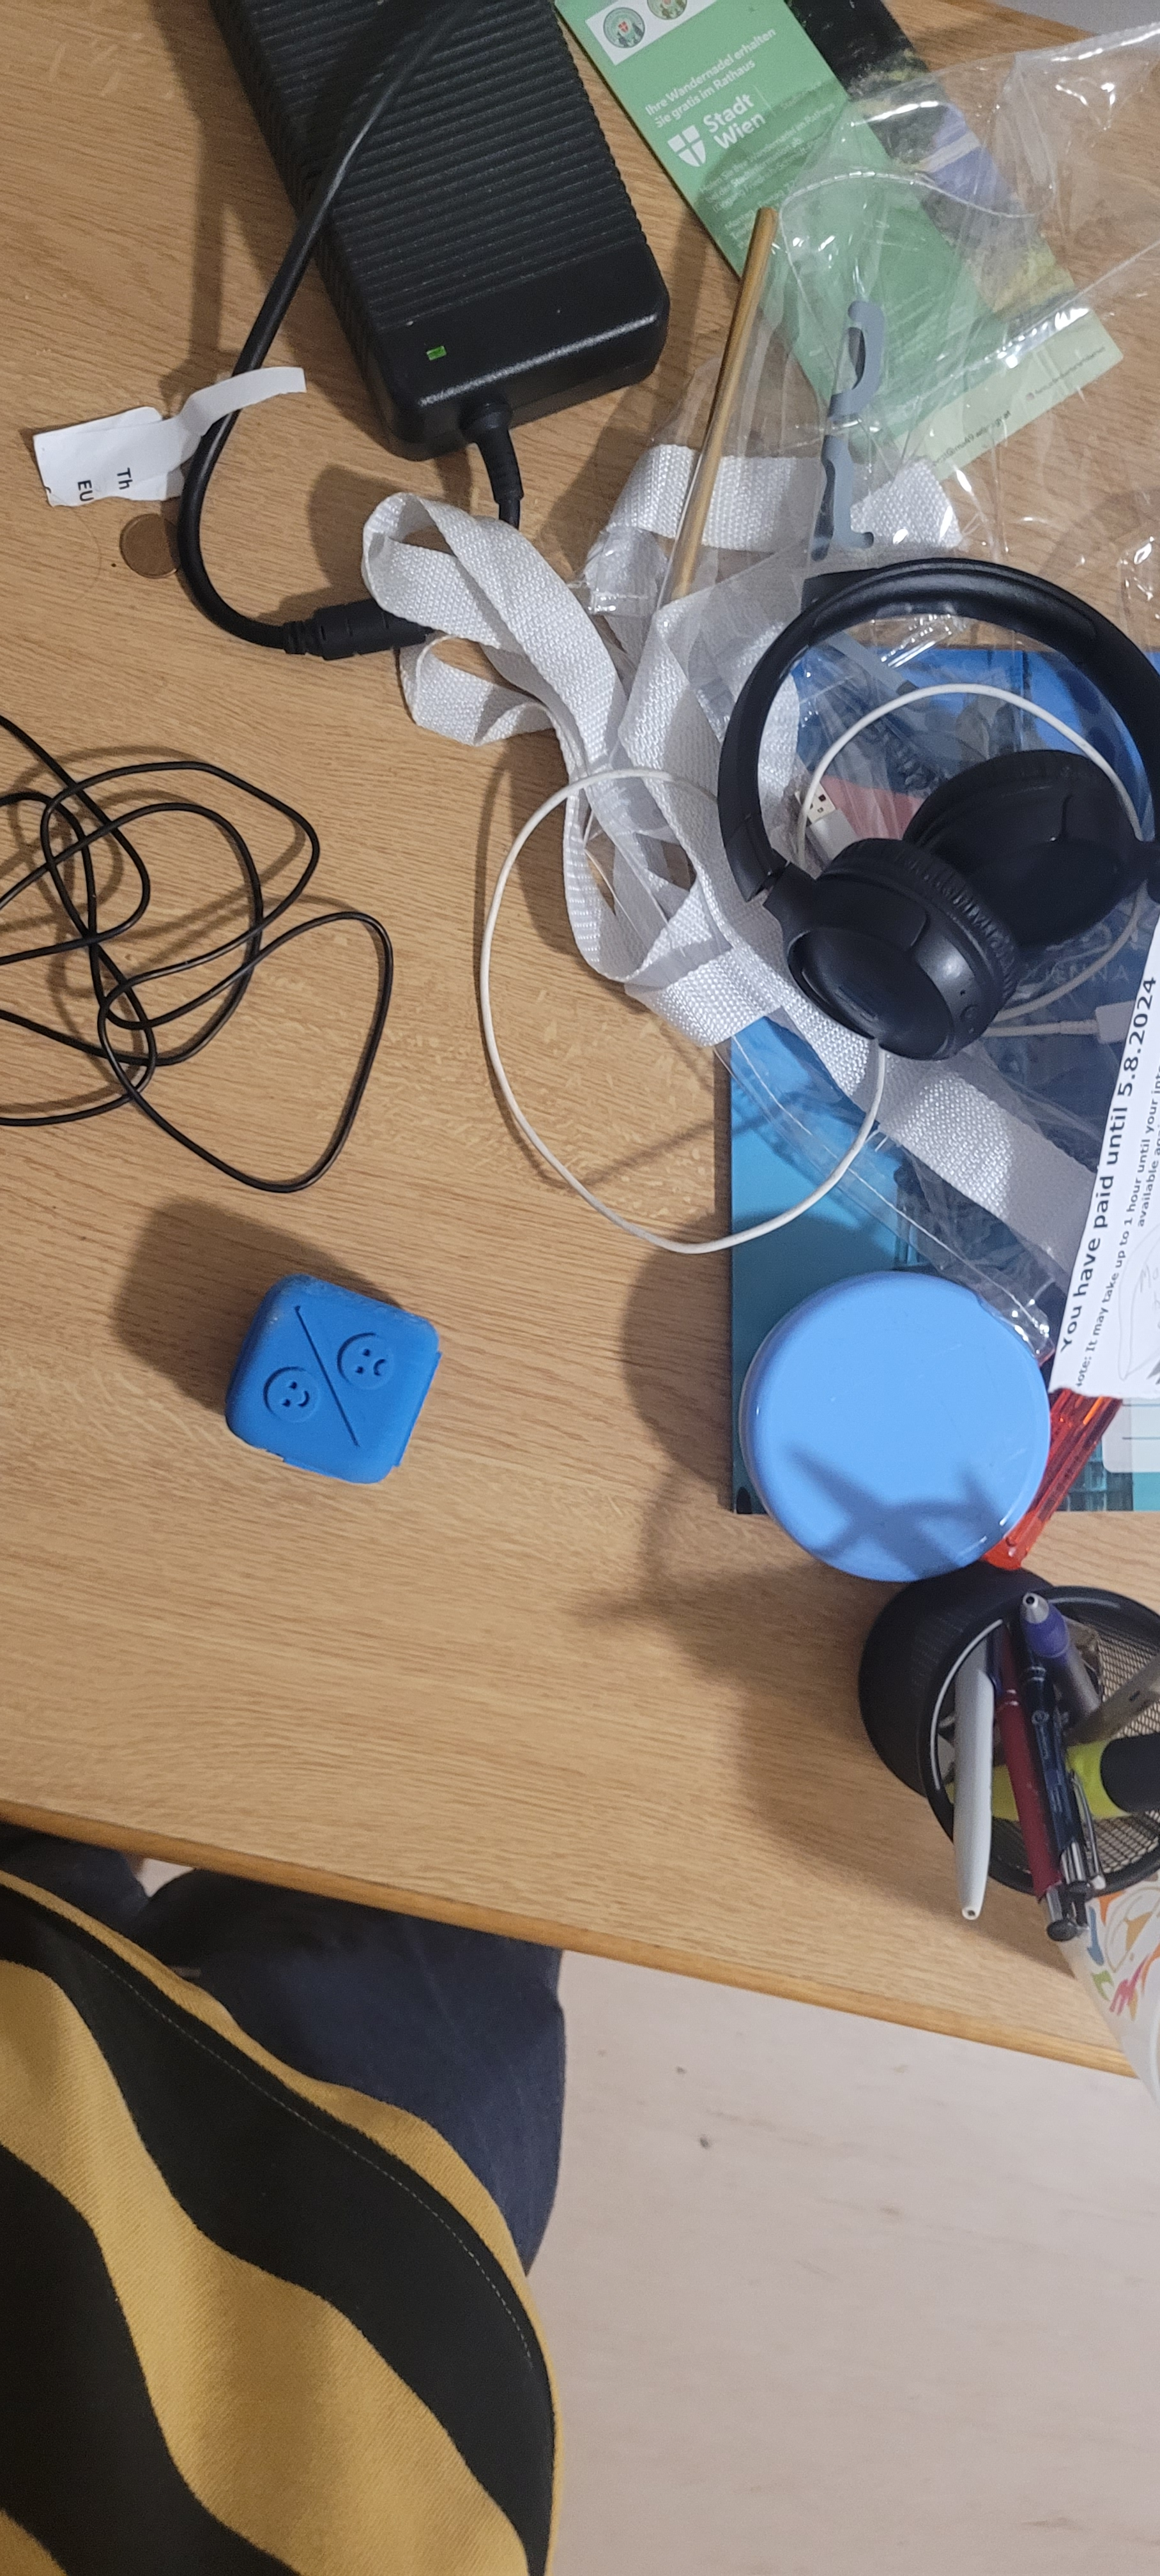Like/Dislike: (271, 1252, 437, 1464)
